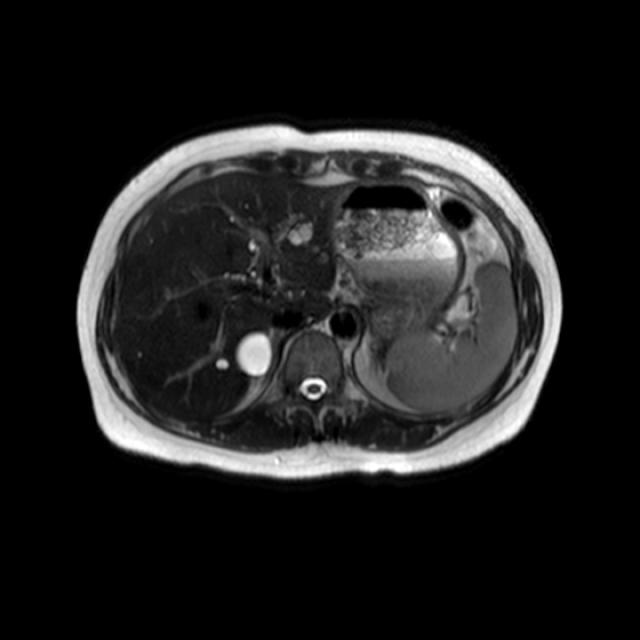sag: (234, 331, 273, 379)
